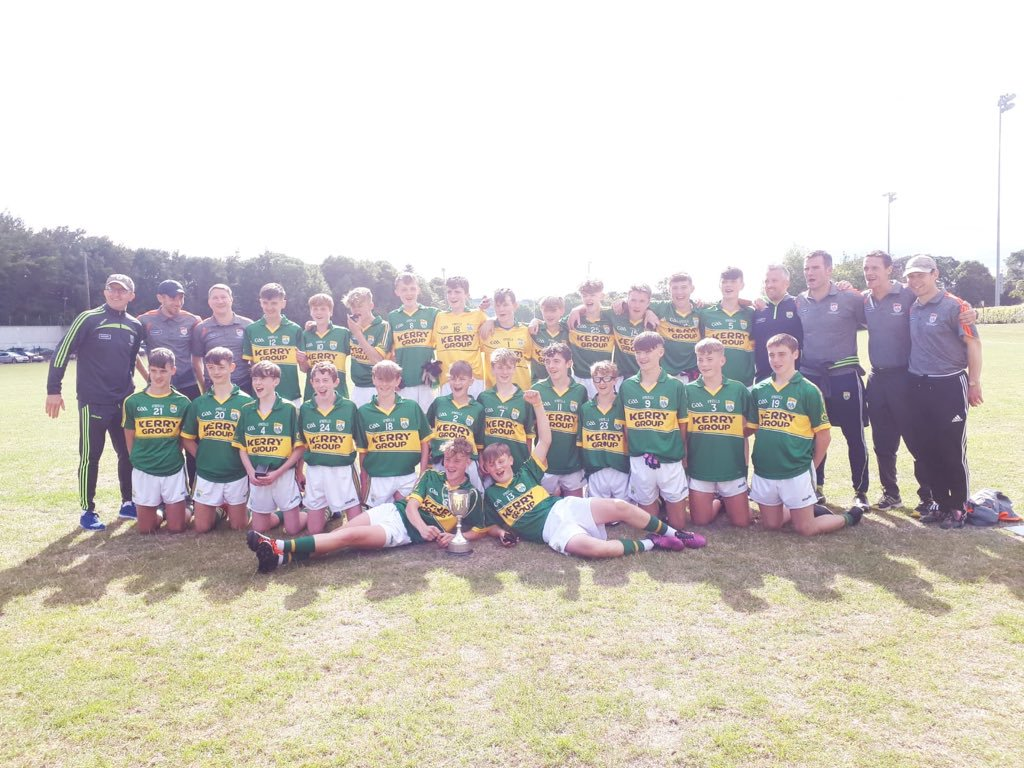player: (478, 445, 698, 562), (273, 440, 477, 565), (59, 268, 149, 526), (853, 246, 925, 501), (803, 248, 872, 490), (760, 340, 827, 521), (685, 342, 750, 512), (628, 336, 690, 510), (133, 347, 190, 514), (301, 363, 358, 507), (245, 366, 299, 512), (195, 349, 245, 506), (364, 361, 422, 495), (533, 346, 588, 479), (584, 363, 626, 489), (429, 359, 485, 451), (704, 267, 756, 361), (391, 274, 440, 360), (248, 278, 294, 369), (296, 294, 350, 371), (432, 275, 482, 356), (337, 284, 386, 365), (616, 278, 661, 365), (667, 268, 709, 361), (488, 351, 525, 443), (572, 275, 611, 362), (758, 257, 798, 336)
